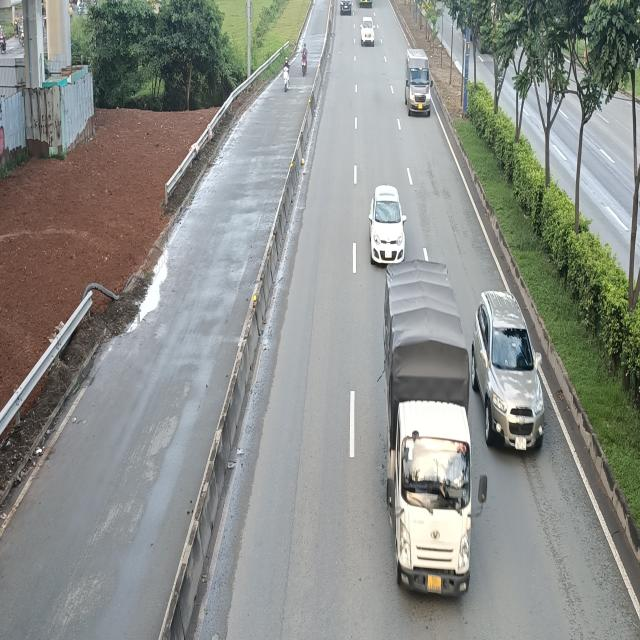car: (470, 289, 546, 453), (366, 185, 404, 265)
truck: (382, 258, 488, 601)
van: (406, 48, 434, 116)
